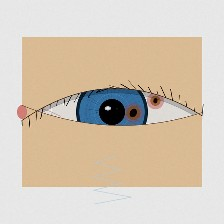foreign_body_visible: (142, 90, 169, 112)
